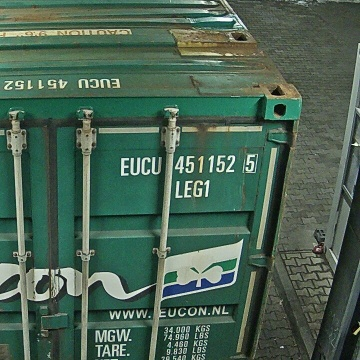serial_id: (120, 154, 255, 175)
